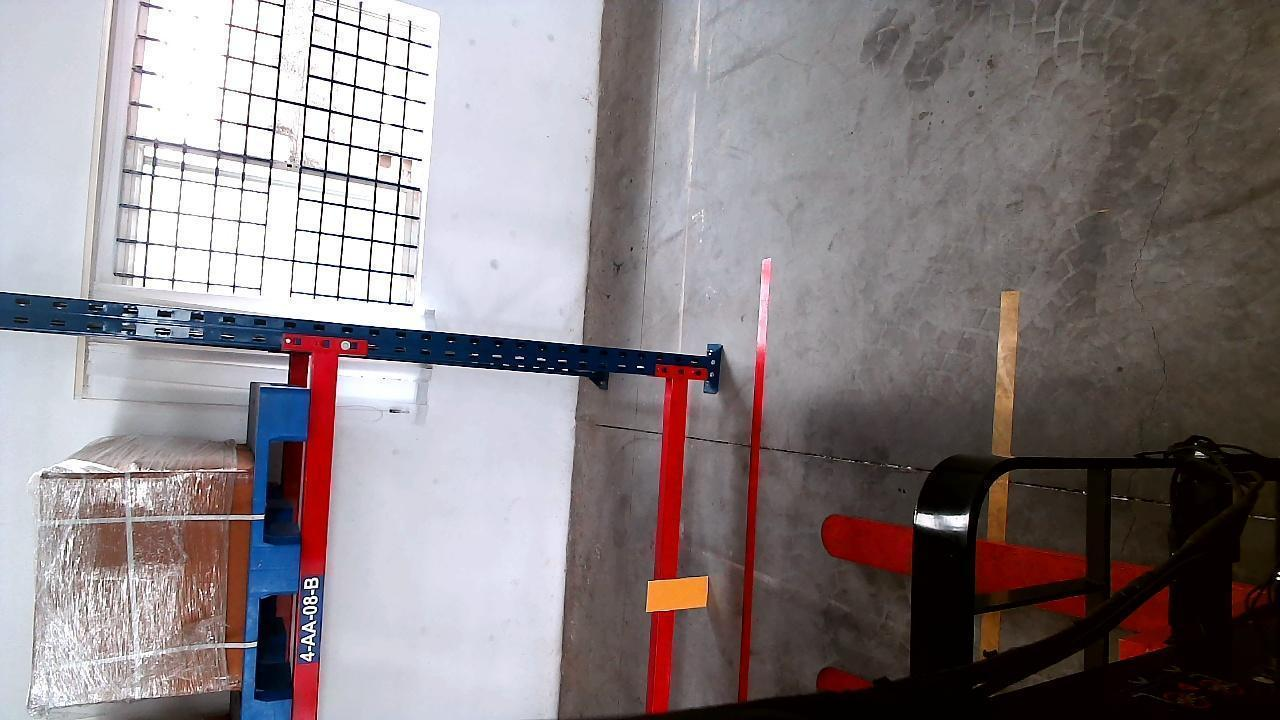red_line: (737, 257, 774, 700)
yellow_line: (989, 290, 1016, 571)
